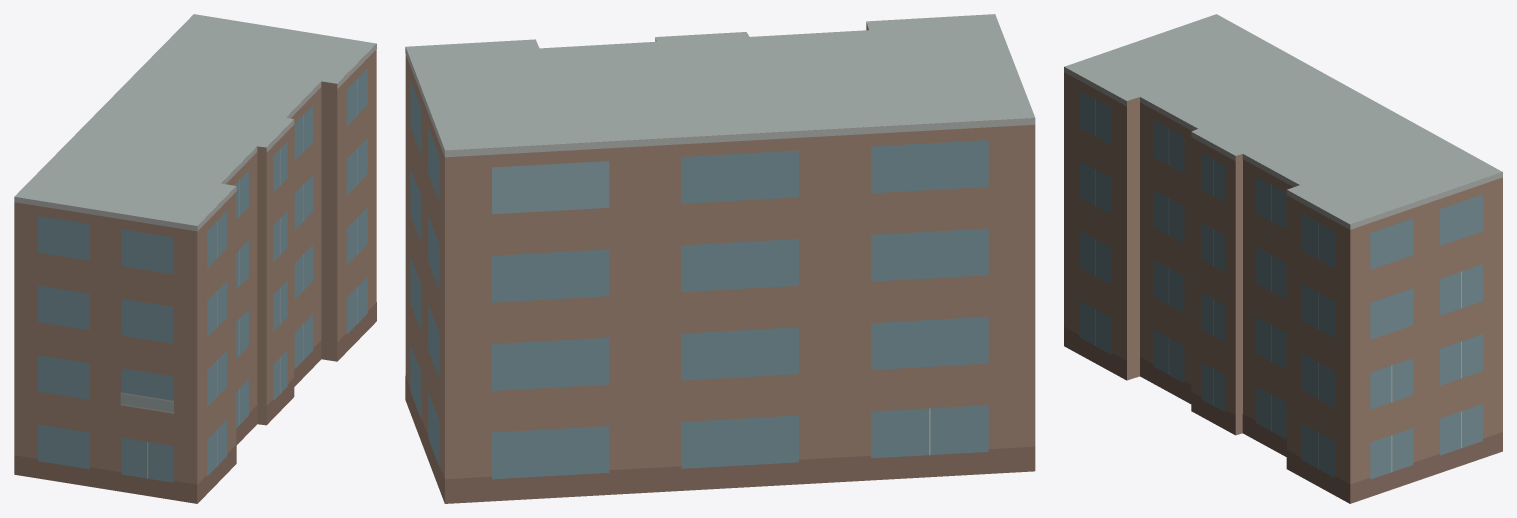
File: survey-upis-32725029.glb
The picture shows the model from 3 angles, left to right: view 1: azimuth 30°, elevation 25°; view 2: azimuth 150°, elevation 25°; view 3: azimuth 270°, elevation 25°; orthographic projection. The views are drawn at different scales.
Parts seen in each view (by area): view 1: survey-upis-32725029.tmp; view 2: survey-upis-32725029.tmp; view 3: survey-upis-32725029.tmp.
Boxes of the visible parts, x1,y1,x2,y2 form: survey-upis-32725029.tmp: (14, 14, 376, 503); survey-upis-32725029.tmp: (405, 14, 1035, 503); survey-upis-32725029.tmp: (1064, 14, 1502, 503).
Size of the model in its own units: 20.36 by 12.6 by 17.94.
